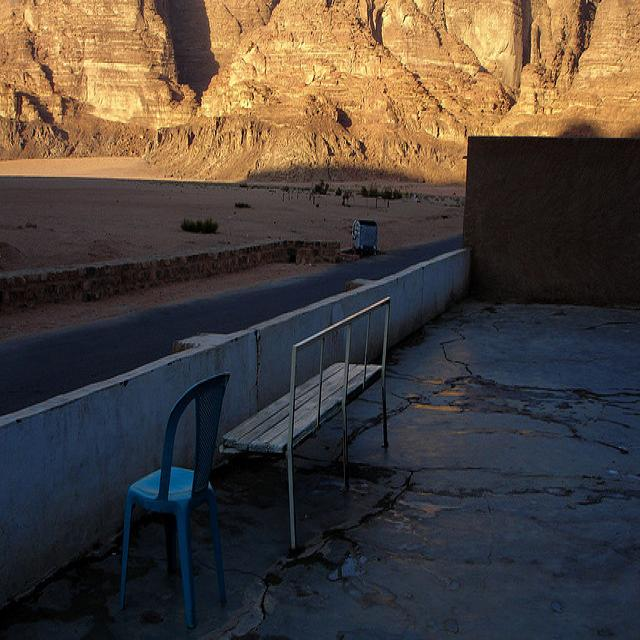chair: (231, 288, 415, 534), (98, 362, 238, 640)
